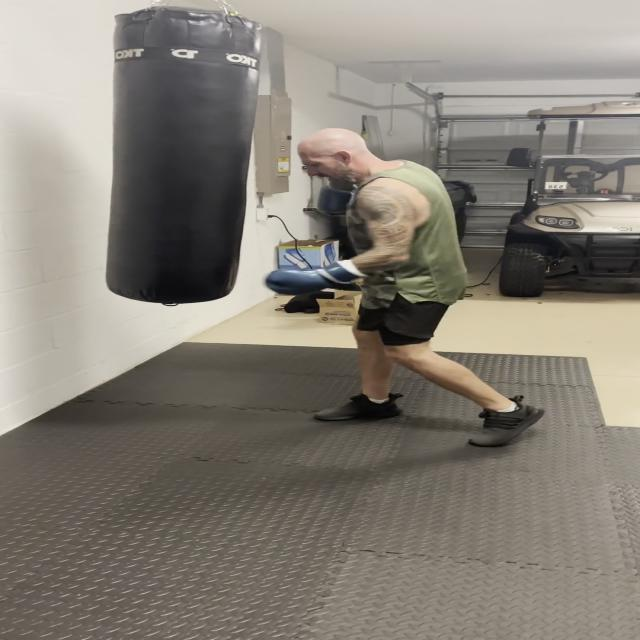bag: (88, 12, 266, 305)
uppercut: (260, 129, 446, 303)
